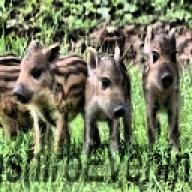boar: (11, 39, 87, 161), (80, 45, 134, 162), (140, 24, 180, 154)
